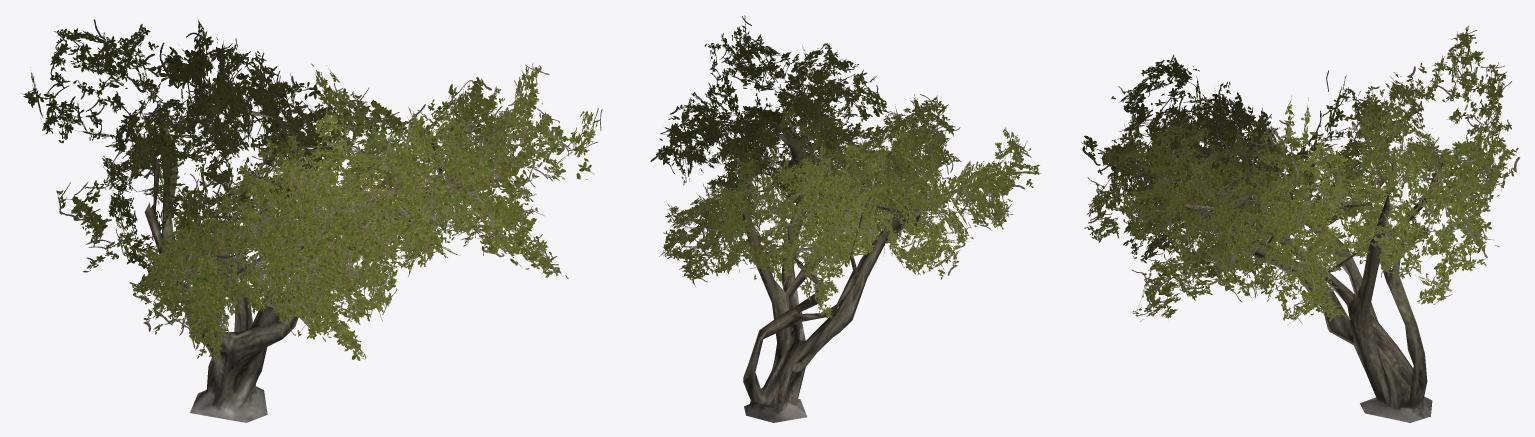
The picture shows the model from 3 angles, left to right: view 1: azimuth 30°, elevation 25°; view 2: azimuth 150°, elevation 25°; view 3: azimuth 270°, elevation 25°; orthographic projection. The views are drawn at different scales.
Visible parts, largest first — view 1: island_tree_02_lod2; view 2: island_tree_02_lod2; view 3: island_tree_02_lod2.
Boxes of the visible parts, left/top/right/bottom form: island_tree_02_lod2: left=21, top=19, right=602, bottom=422; island_tree_02_lod2: left=650, top=15, right=1041, bottom=422; island_tree_02_lod2: left=1081, top=25, right=1520, bottom=422.
Bounding box in the file's own units: 4.07 × 3.43 × 4.15.
3 materials, 3 textured.
